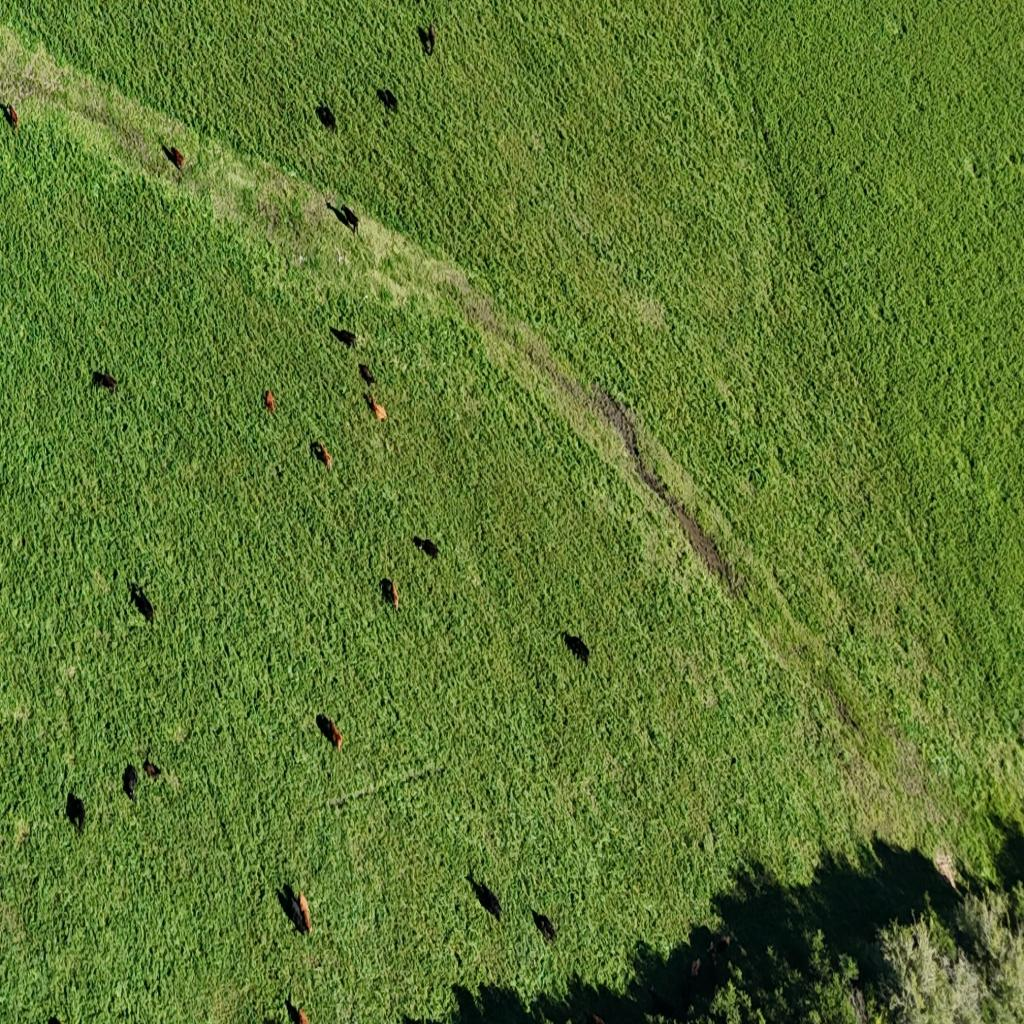cow: (683, 934, 730, 1016), (280, 882, 314, 936), (125, 758, 163, 803), (473, 878, 503, 924), (649, 985, 684, 1022), (130, 580, 156, 624), (563, 629, 591, 664), (318, 714, 343, 752), (66, 790, 87, 835), (531, 908, 557, 944), (691, 929, 714, 966), (336, 205, 362, 236), (364, 390, 388, 422), (285, 995, 309, 1024), (708, 933, 732, 962), (380, 577, 399, 612), (92, 369, 118, 394), (317, 102, 337, 134), (122, 764, 138, 804), (2, 100, 20, 134), (418, 22, 435, 57), (377, 87, 399, 114), (163, 144, 185, 171), (312, 442, 332, 471), (330, 327, 356, 349), (417, 537, 441, 560), (142, 758, 162, 781), (283, 884, 299, 912), (359, 363, 377, 387), (398, 1011, 429, 1024), (264, 389, 276, 415), (364, 391, 375, 413), (260, 1016, 286, 1024), (691, 956, 701, 976), (589, 1012, 605, 1024), (47, 1016, 66, 1024)
